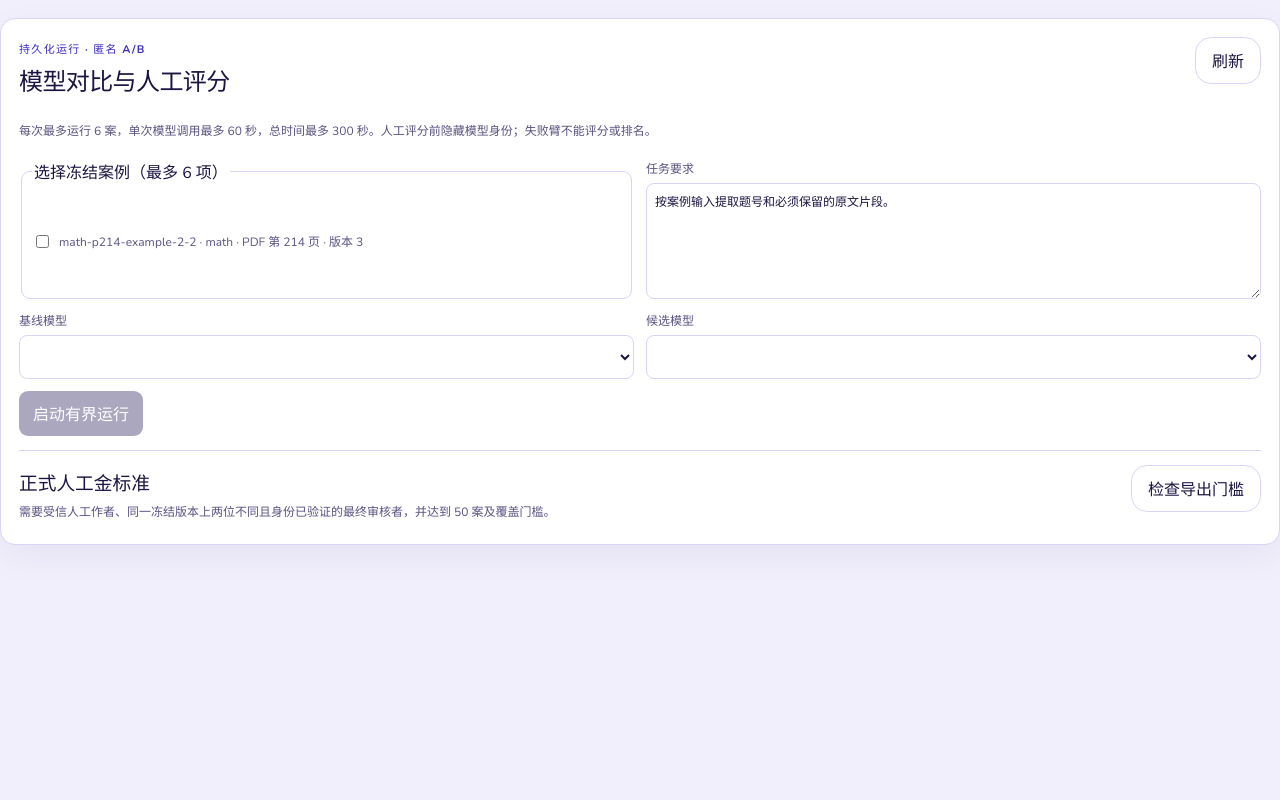
Test: user Given a status poll is still pending When cancelling a run Then its late running response cannot undo the cancellation
expect the text "math-p214-example-2-2 · math · PDF 第 214 页 · 版本 3" is shown: met, box [59,232,363,250]
What coordinates should you click on to do the following:
click the checkbox labelled "math-p214-example-2-2 · math · PDF 第 214 页 · 版本 3"
I would click on:
 (42, 241)
Its box is [36,235,49,248].
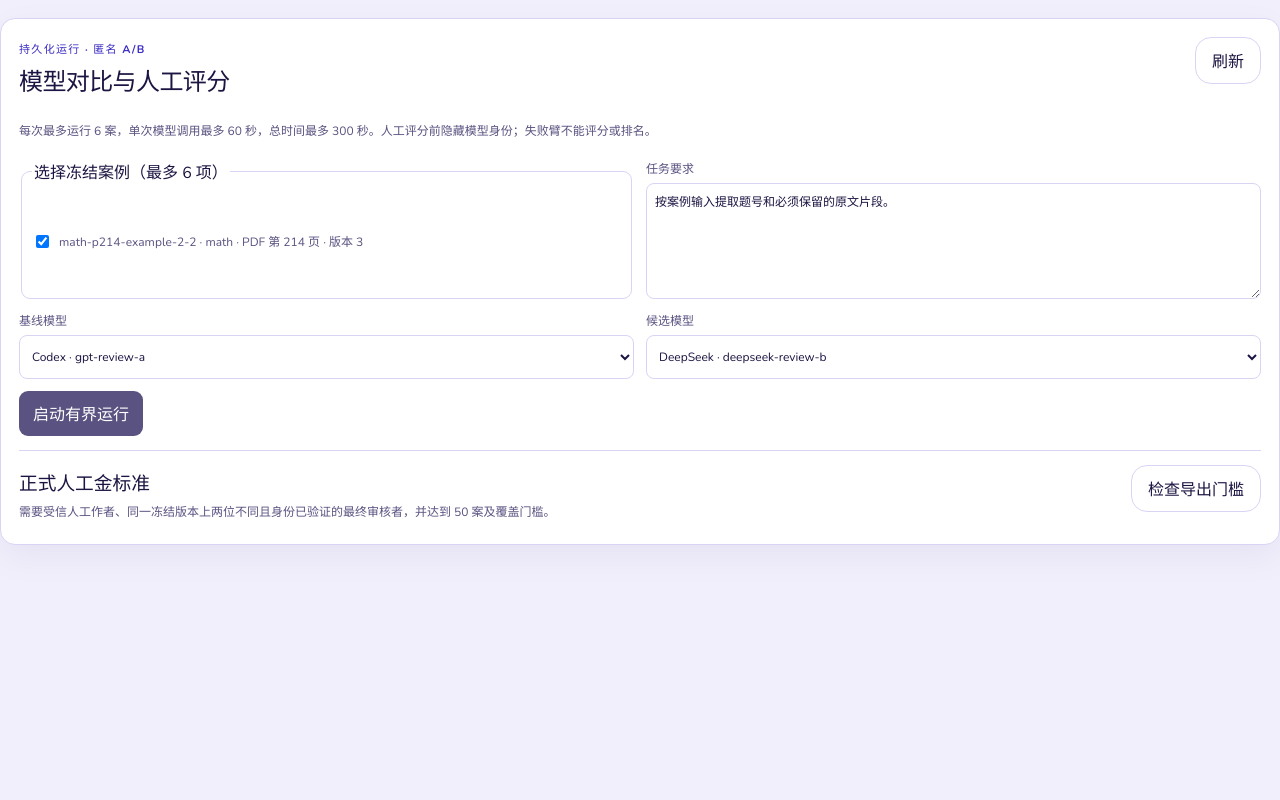
expect the button "启动有界运行" is enabled: met
What coordinates should you click on to do the following:
click the button "启动有界运行"
I would click on:
 (81, 414)
Its box is [19,391,143,436].
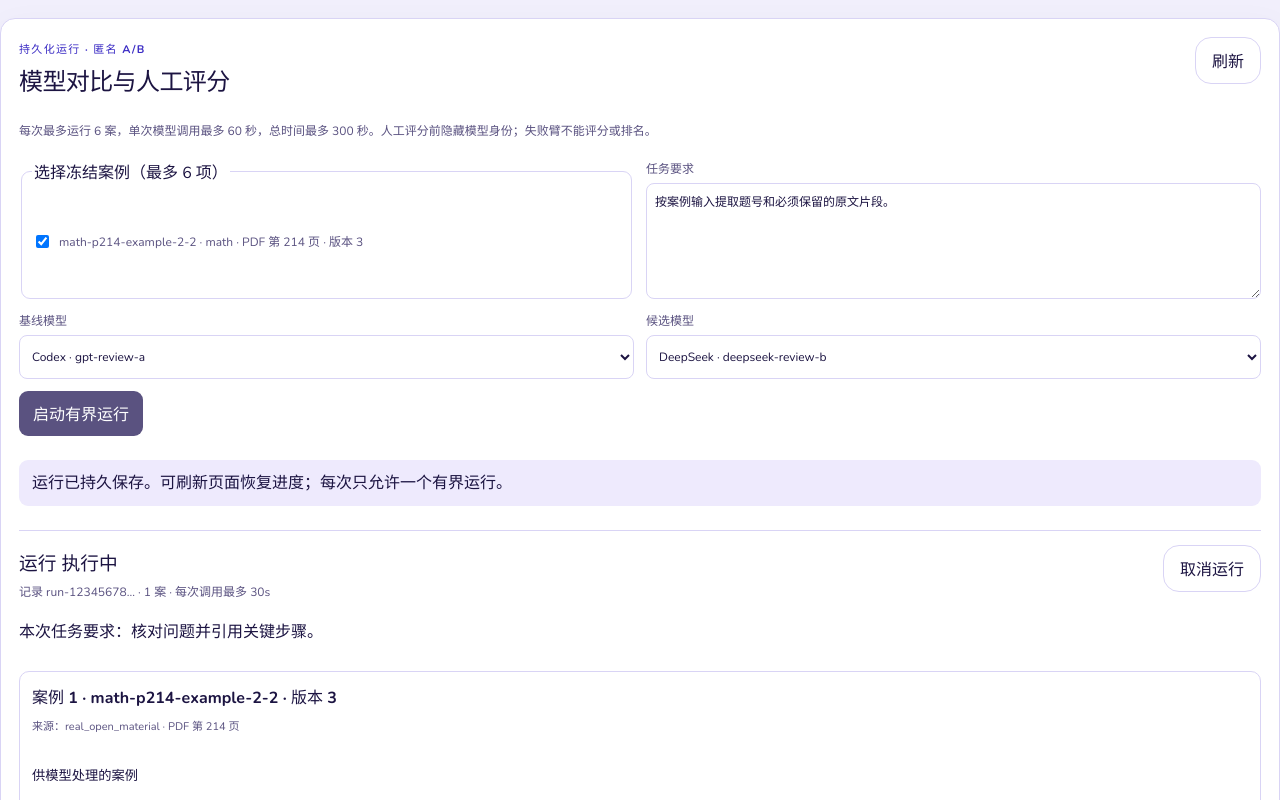
expect the heading "运行 执行中" is shown: met, box [19,551,118,577]
What coordinates should you click on to do the following:
click the button "取消运行"
I would click on:
 (1212, 569)
Its box is [1163,545,1261,592].
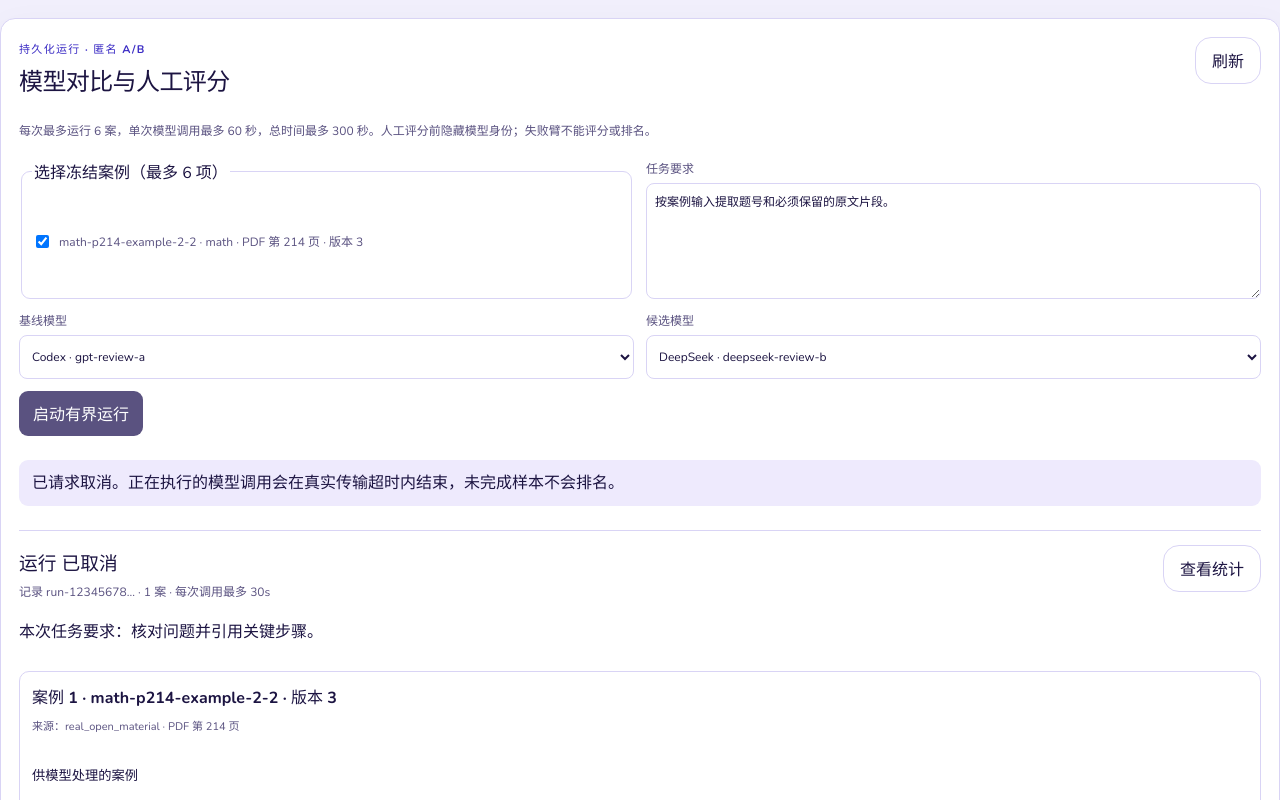
expect the heading "运行 已取消" is shown: met, box [19,551,118,577]
expect the button "取消运行" is gone: met
